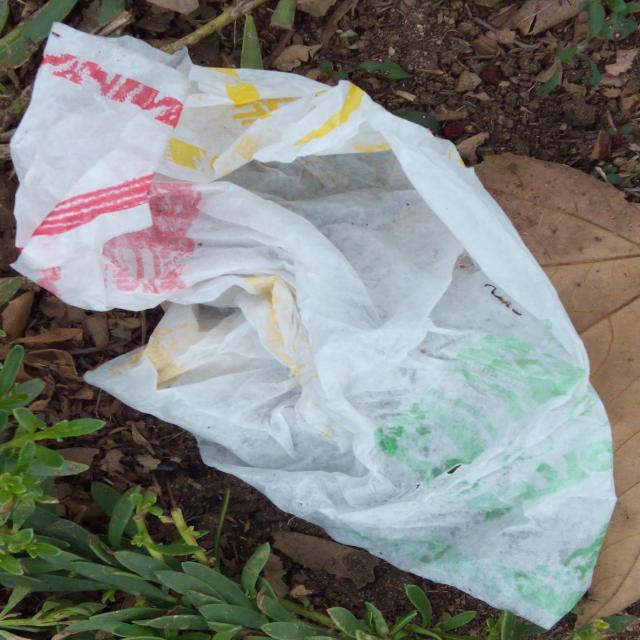litter: (9, 26, 639, 634)
